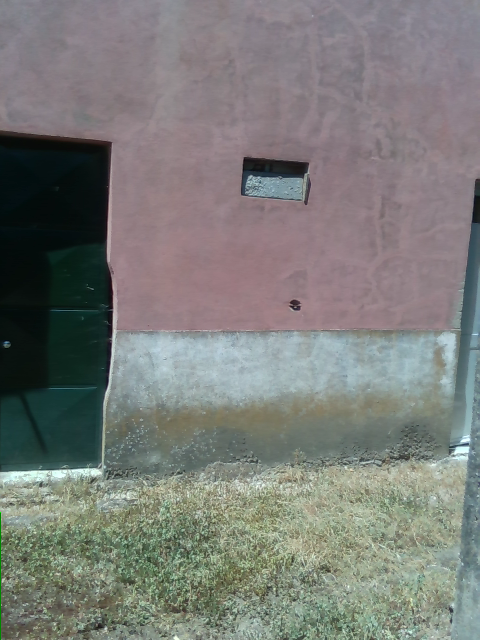closed: (0, 126, 114, 478)
